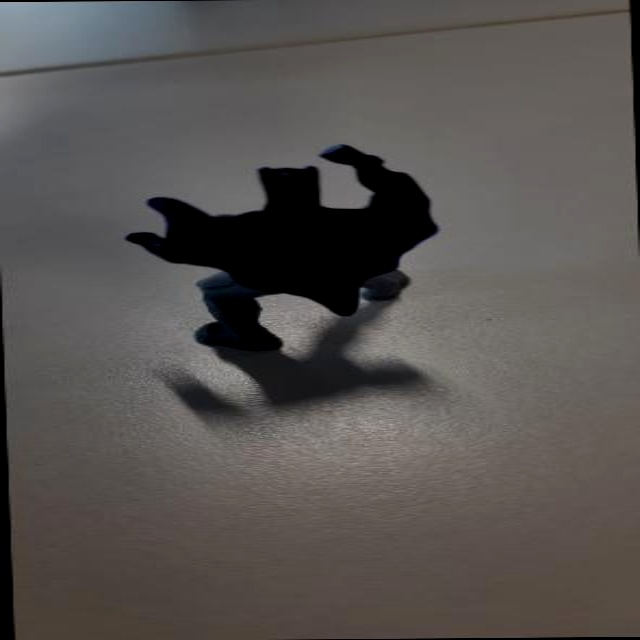Batman: (105, 143, 461, 352)
